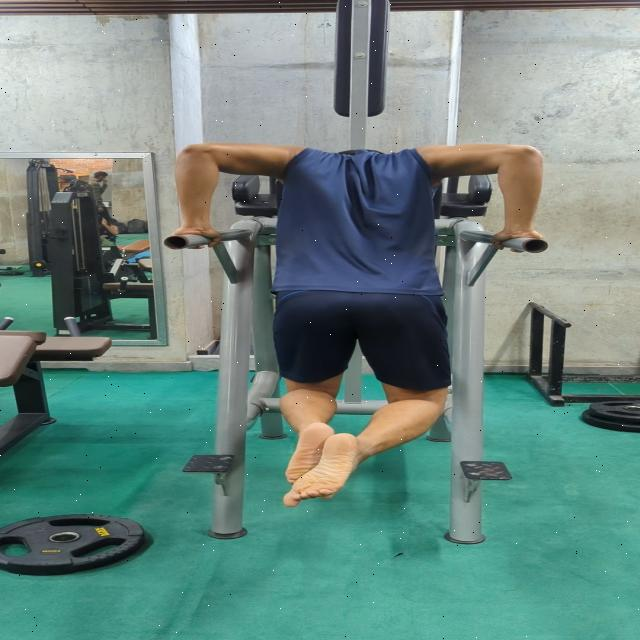Normal_Dips: (125, 135, 554, 507)
